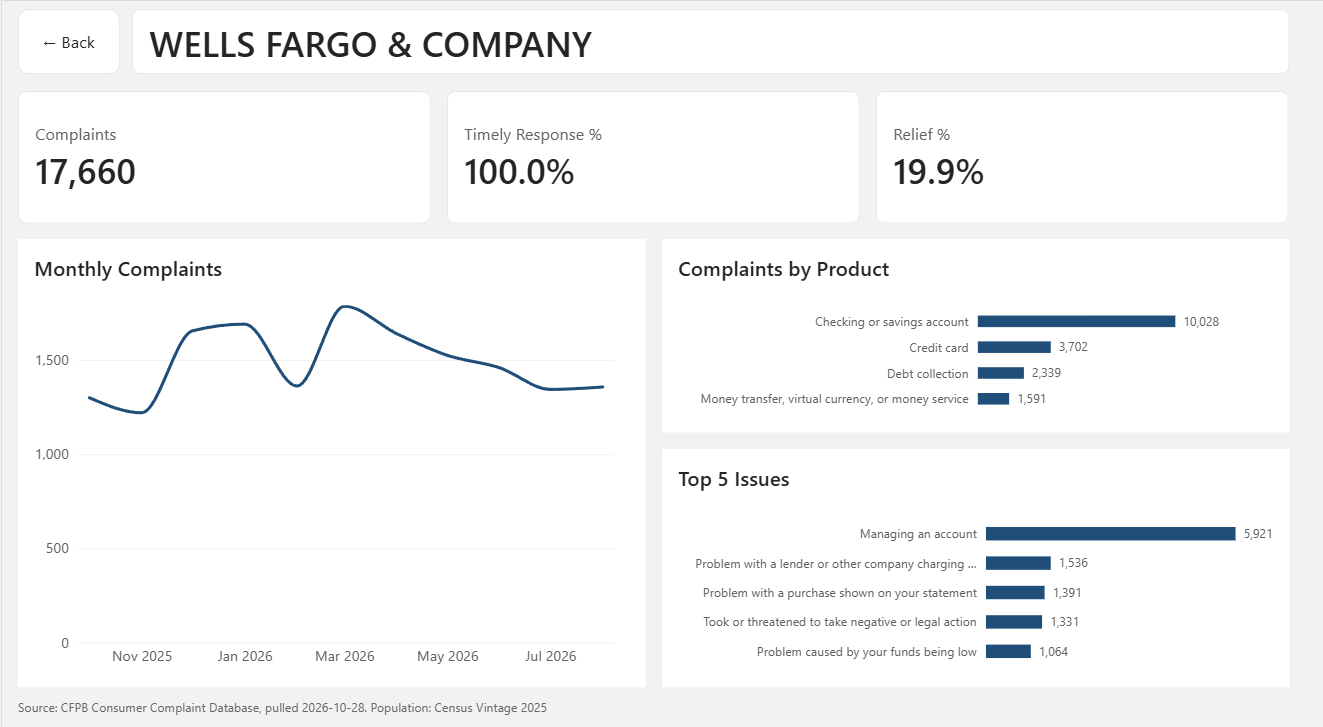

This screenshot's page, from the dashboard's own definition file:
{"tool":"powerbi","page":{"name":"Company Detail","canvas":[1920,1080],"ordinal":2},"visuals":[{"type":"actionButton","title":"← Back","box":[16,8,100,64],"z":0},{"type":"cardVisual","fields":{"Data":["_Measures.Selected Company"]},"box":[128,8,1136,64],"z":1000},{"type":"cardVisual","fields":{"Data":["_Measures.Complaints Exact"]},"box":[16,88,405,130],"z":2000},{"type":"cardVisual","fields":{"Data":["_Measures.Timely Response %"]},"box":[437,88,405,130],"z":3000},{"type":"cardVisual","fields":{"Data":["_Measures.Relief %"]},"box":[858,88,405,130],"z":4000},{"type":"lineChart","title":"Monthly Complaints","fields":{"Category":["dim_Date.Month Start"],"Y":["_Measures.Complaints"]},"box":[16,234,616,440],"z":5000},{"type":"clusteredBarChart","fields":{"Category":["dim_Product.Product"],"Y":["_Measures.Complaints"]},"box":[648,234,616,190],"z":6000},{"type":"clusteredBarChart","title":"Top 5 Issues","fields":{"Category":["dim_Issue.Issue"],"Y":["_Measures.Complaints"]},"box":[648,440,616,234],"z":7000},{"type":"textbox","box":[16,684,1248,28],"z":8000}]}

Visuals, with their boxes in screenshot pixels (x1, y1, x2, y2), scaled from the page's 1920x1080 canvas onto the 1323x727 screenshot:
"← Back" actionButton: bbox=(11, 5, 80, 48)
cardVisual - _Measures.Selected Company: bbox=(88, 5, 871, 48)
cardVisual - _Measures.Complaints Exact: bbox=(11, 59, 290, 147)
cardVisual - _Measures.Timely Response %: bbox=(301, 59, 580, 147)
cardVisual - _Measures.Relief %: bbox=(591, 59, 870, 147)
"Monthly Complaints" lineChart: bbox=(11, 158, 435, 454)
clusteredBarChart - dim_Product.Product x _Measures.Complaints: bbox=(447, 158, 871, 285)
"Top 5 Issues" clusteredBarChart: bbox=(447, 296, 871, 454)
textbox: bbox=(11, 460, 871, 479)
